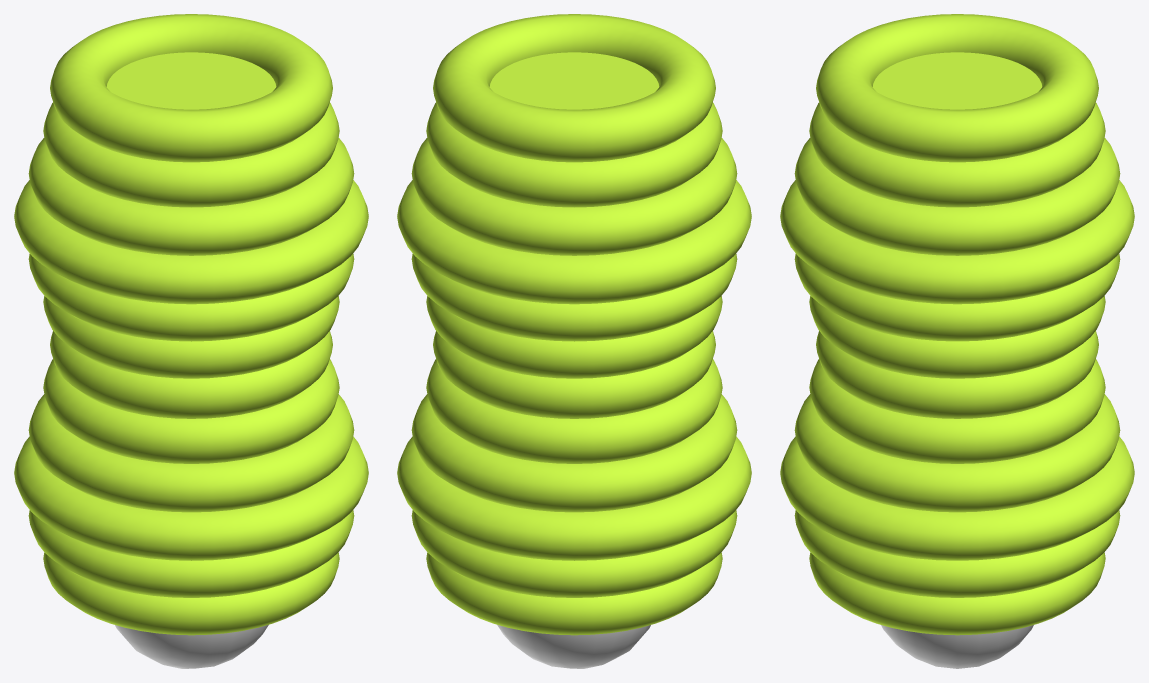
The model's file is moduleT.gltf.
3 renders of one model, left to right at view 1: azimuth 30°, elevation 25°; view 2: azimuth 150°, elevation 25°; view 3: azimuth 270°, elevation 25°, orthographic.
Parts seen in each view (by area): view 1: Torus_1, Torus_4, Torus_10, Torus_9, Torus_3, Torus_2, Torus_8, Torus_11, Torus_5, Torus_7, Torus_6, Torus_12 (+2 smaller); view 2: Torus_1, Torus_4, Torus_10, Torus_9, Torus_3, Torus_2, Torus_8, Torus_11, Torus_5, Torus_7, Torus_6, Torus_12 (+2 smaller); view 3: Torus_1, Torus_4, Torus_10, Torus_3, Torus_9, Torus_2, Torus_8, Torus_11, Torus_5, Torus_7, Torus_6, Torus_12 (+2 smaller).
Boxes of the visible parts, x1=… form: Torus_1: x1=50, y1=14, x2=332, y2=162; Torus_4: x1=14, y1=180, x2=368, y2=304; Torus_10: x1=14, y1=436, x2=368, y2=560; Torus_9: x1=28, y1=394, x2=354, y2=512; Torus_3: x1=28, y1=138, x2=354, y2=255; Torus_2: x1=43, y1=102, x2=339, y2=207; Torus_8: x1=43, y1=359, x2=339, y2=463; Torus_11: x1=28, y1=510, x2=354, y2=597; Torus_5: x1=28, y1=253, x2=354, y2=341; Torus_7: x1=50, y1=331, x2=332, y2=418; Torus_6: x1=43, y1=296, x2=339, y2=378; Torus_12: x1=43, y1=552, x2=339, y2=635; Torus_1: x1=433, y1=14, x2=715, y2=162; Torus_4: x1=397, y1=180, x2=751, y2=304; Torus_10: x1=397, y1=436, x2=751, y2=560; Torus_9: x1=411, y1=394, x2=737, y2=512; Torus_3: x1=411, y1=138, x2=737, y2=255; Torus_2: x1=426, y1=102, x2=722, y2=207; Torus_8: x1=426, y1=359, x2=722, y2=463; Torus_11: x1=411, y1=510, x2=737, y2=597; Torus_5: x1=411, y1=253, x2=737, y2=341; Torus_7: x1=433, y1=331, x2=715, y2=418; Torus_6: x1=426, y1=296, x2=722, y2=378; Torus_12: x1=426, y1=552, x2=722, y2=635; Torus_1: x1=816, y1=14, x2=1098, y2=162; Torus_4: x1=780, y1=180, x2=1134, y2=304; Torus_10: x1=780, y1=436, x2=1134, y2=560; Torus_3: x1=794, y1=138, x2=1120, y2=255; Torus_9: x1=794, y1=394, x2=1120, y2=512; Torus_2: x1=809, y1=102, x2=1105, y2=207; Torus_8: x1=809, y1=359, x2=1105, y2=463; Torus_11: x1=794, y1=510, x2=1120, y2=597; Torus_5: x1=794, y1=253, x2=1120, y2=341; Torus_7: x1=816, y1=331, x2=1098, y2=418; Torus_6: x1=809, y1=296, x2=1105, y2=378; Torus_12: x1=809, y1=552, x2=1105, y2=635.
Size of what is drawn, in the model's own units: 1.97 by 3.65 by 1.97.
